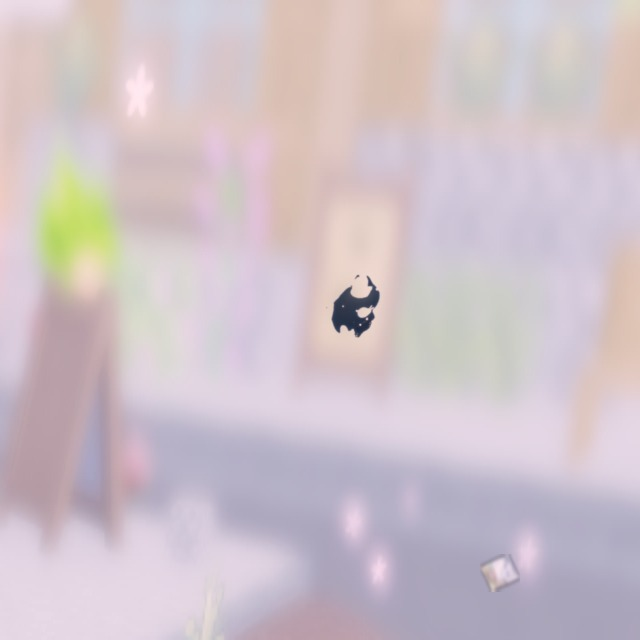urso_branco: (480, 554, 520, 592)
urso_preto: (309, 257, 403, 357)
